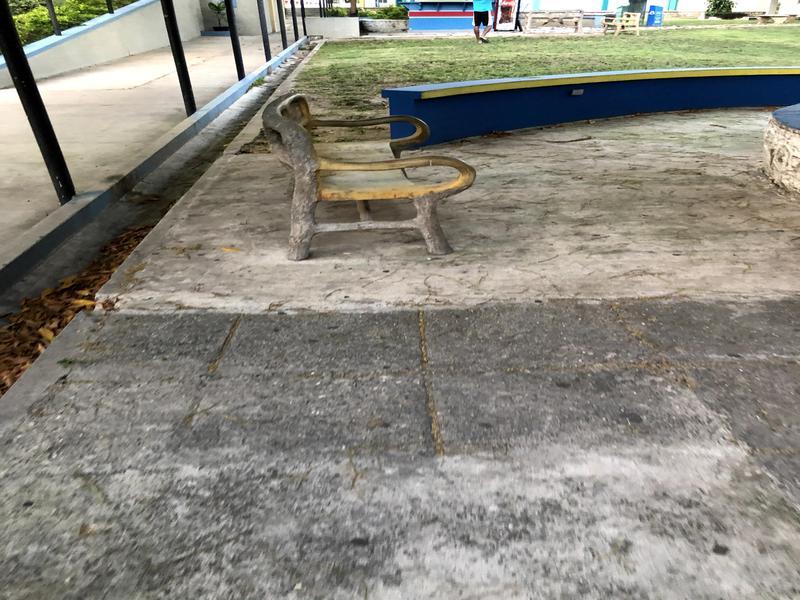18.0050864_-76.7496363_bench: (247, 76, 480, 268)
